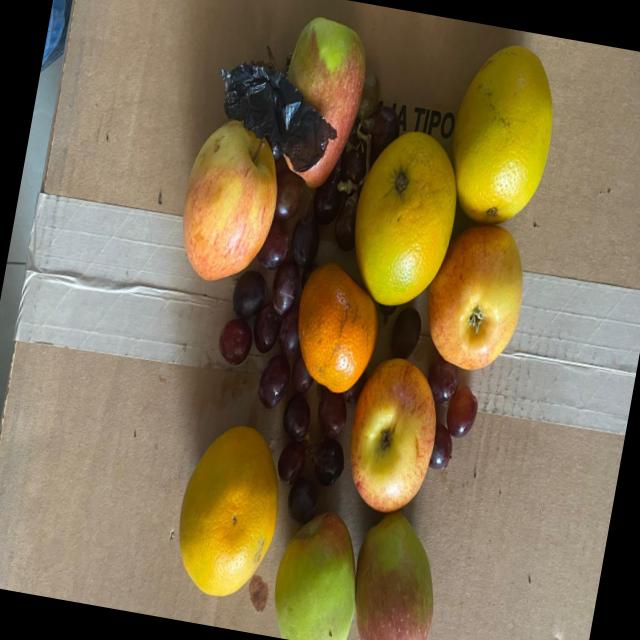bolsa_negra: (202, 58, 341, 164)
